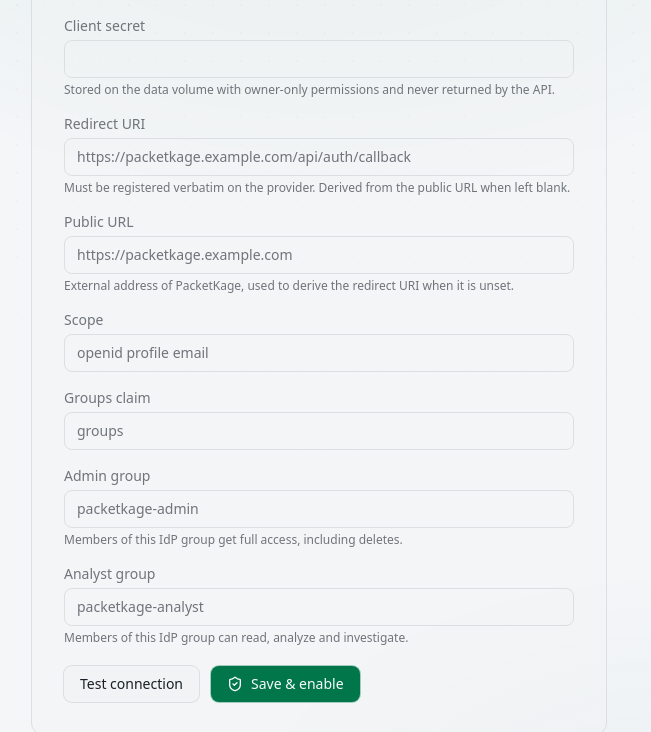
Test: SetupPage › reports a failed discovery pre-flight without throwing
(page scrolled)
Click the button "Test connection". click: (132, 684)
box: x1=64 y1=666 x2=199 y2=702
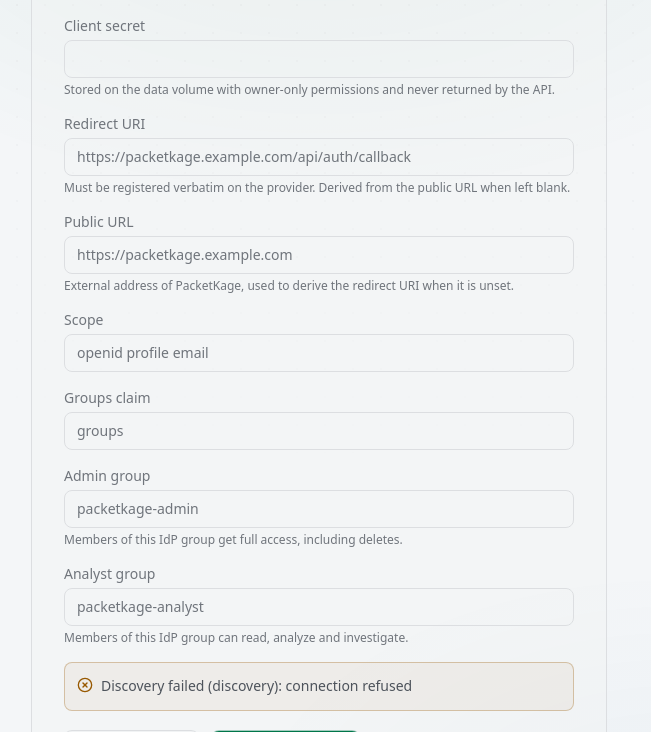
Result: the text "Discovery failed (discovery): connection refused" is shown at x1=101 y1=675 x2=412 y2=698
